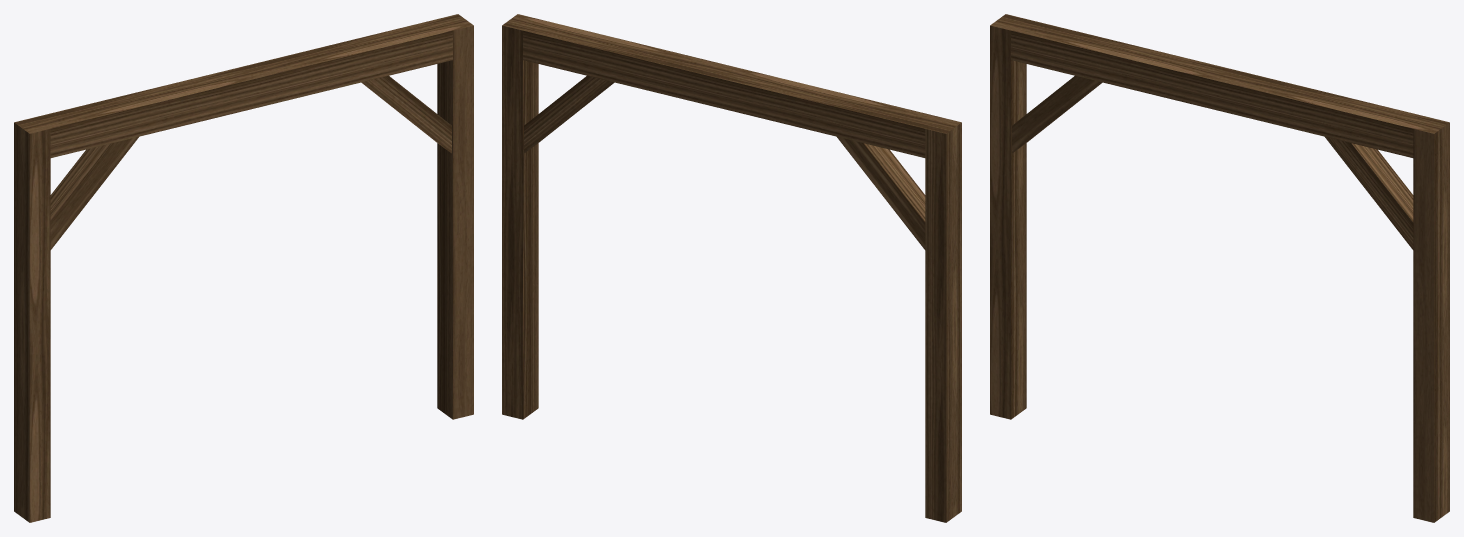
File: Wooden 11.glb
The picture shows the model from 3 angles, left to right: view 1: azimuth 30°, elevation 25°; view 2: azimuth 150°, elevation 25°; view 3: azimuth 330°, elevation 25°; orthographic projection.
Visible parts, largest first — view 1: Wooden_11; view 2: Wooden_11; view 3: Wooden_11.
Part boxes in pixels (x1=…): Wooden_11: x1=14, y1=14, x2=473, y2=522; Wooden_11: x1=502, y1=14, x2=961, y2=522; Wooden_11: x1=990, y1=14, x2=1449, y2=522.
Size of the model in its own units: 1.68 by 1.41 by 0.1031.
Materials: 1 (1 with a texture image).
